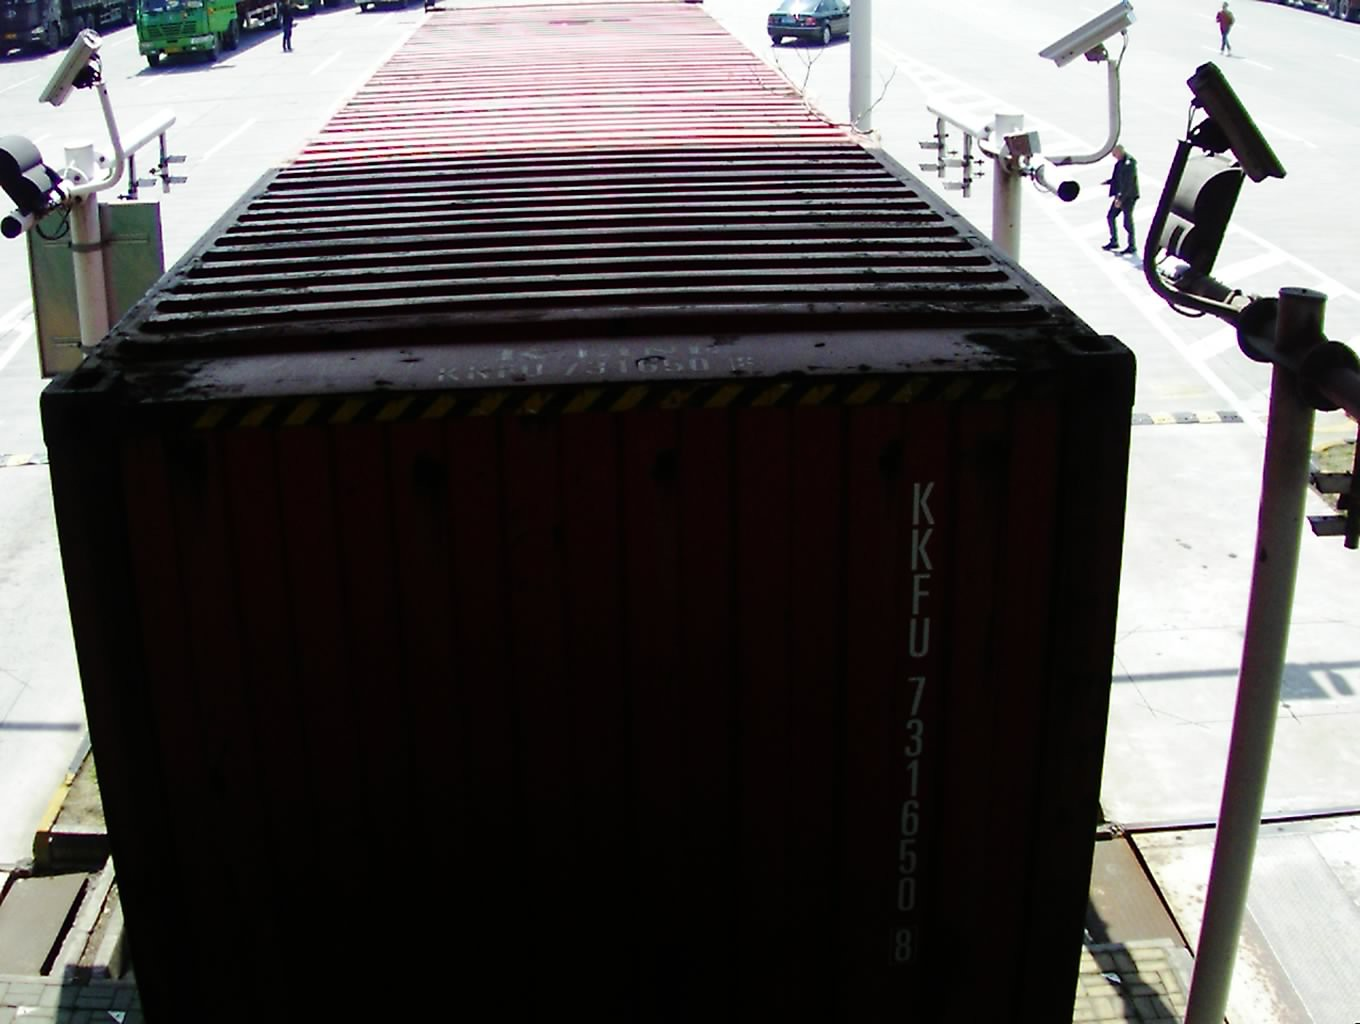words: (883, 477, 942, 969)
